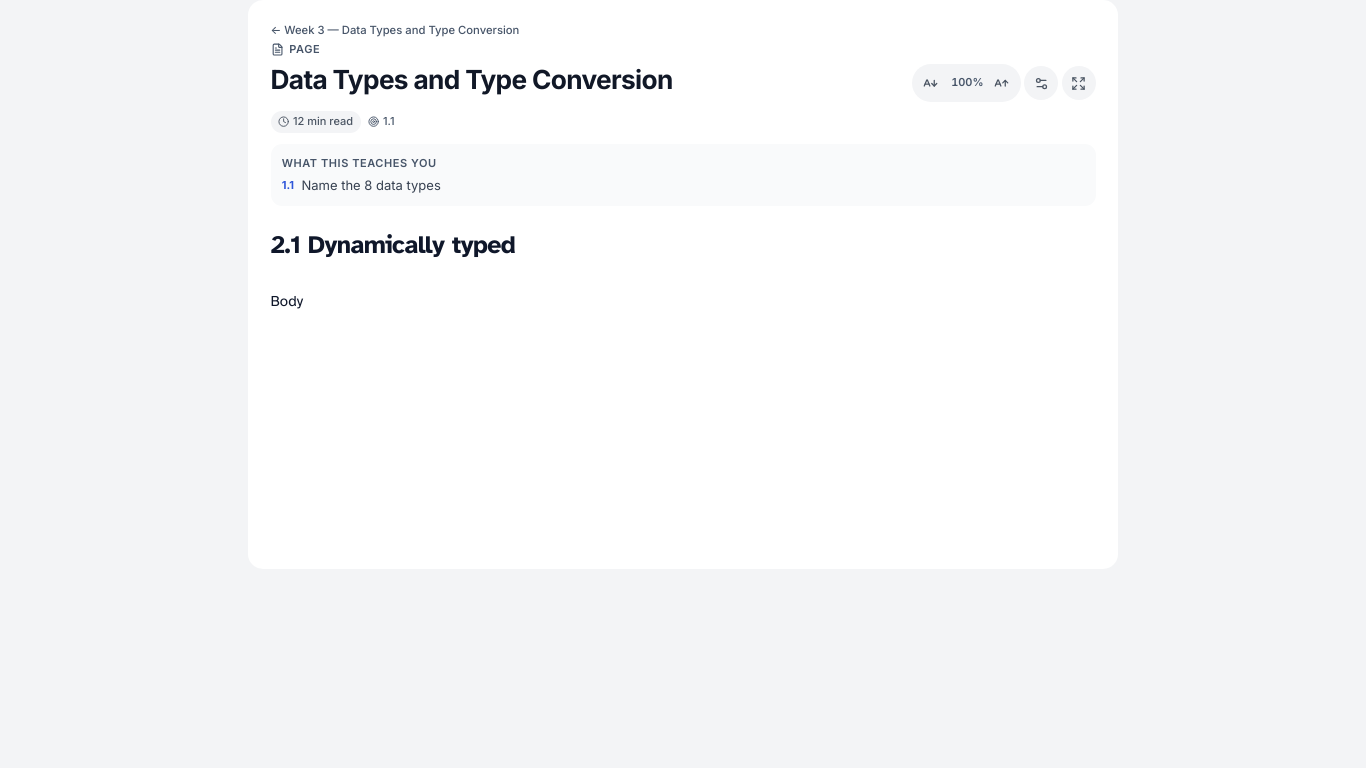
Test: ItemView — the lesson reader › still works when the browser refuses fullscreen
Click the button named "Focus mode" at coordinates (1079, 83), box [1062,66,1096,100]
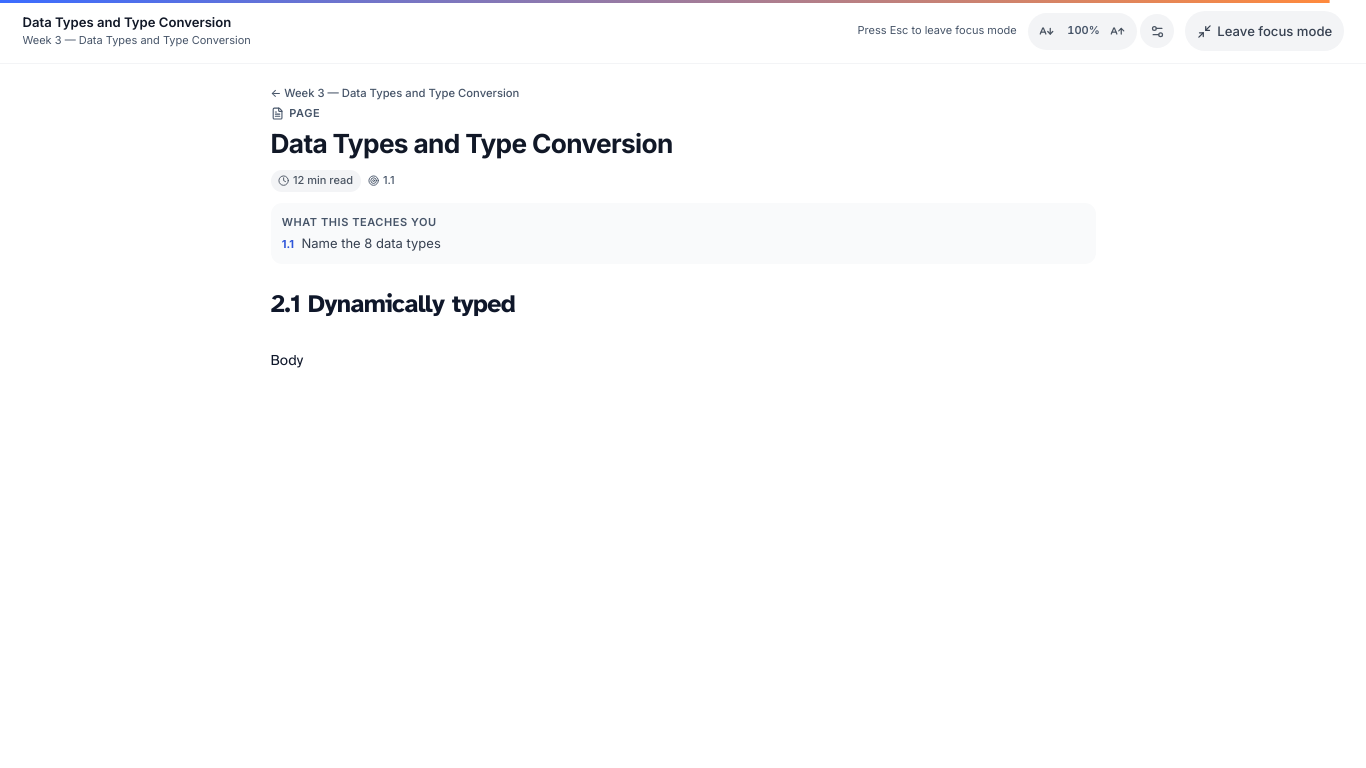
Now the element named "Focus mode" is shown
